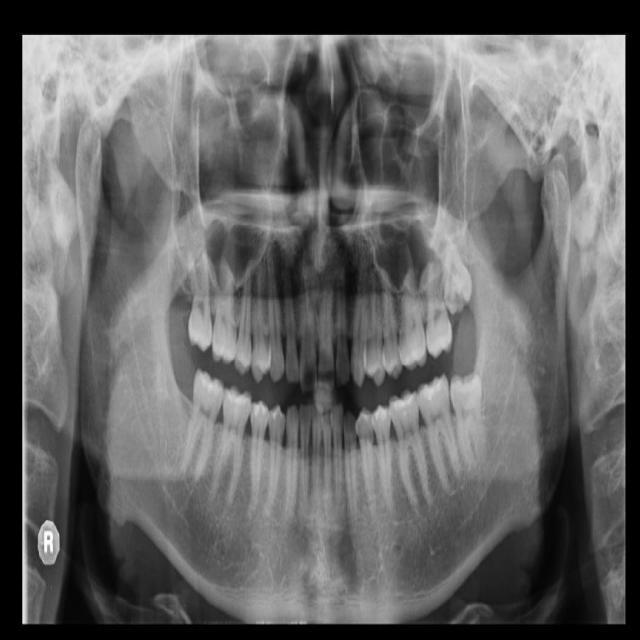impacted tooth: (449, 370, 487, 472), (439, 227, 470, 316)
